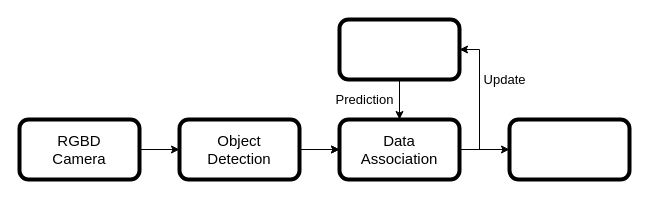
Image size: 648x198. Some labels were removed from this diagram. Each missing label, with the box of its shape:
Coordinate Transformation: (507, 117, 631, 181)
Kalman Filter: (337, 17, 461, 81)
